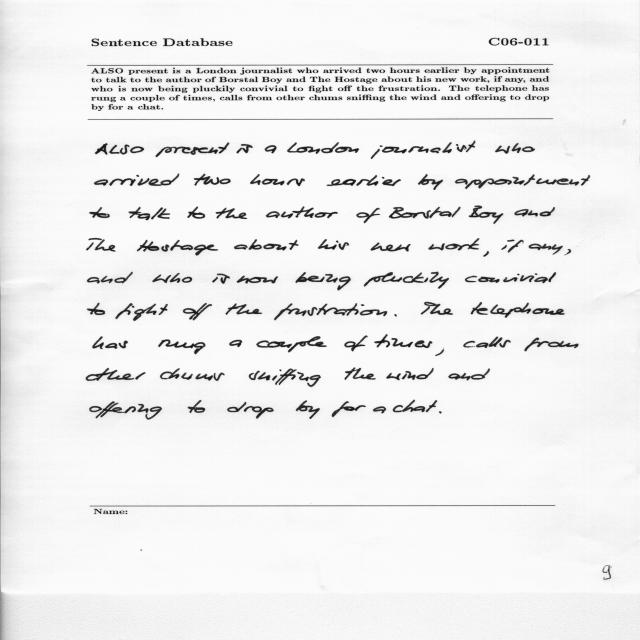word: (455, 174, 590, 189), (274, 303, 387, 320), (371, 141, 476, 159), (471, 302, 565, 318), (364, 272, 449, 289), (249, 368, 321, 387), (90, 401, 162, 420), (137, 240, 218, 256), (256, 336, 327, 353), (156, 143, 230, 158), (295, 272, 351, 291), (95, 174, 180, 186), (465, 272, 556, 283), (115, 303, 168, 321), (287, 142, 359, 154), (266, 207, 338, 219), (389, 207, 461, 219), (160, 368, 225, 381), (327, 175, 401, 186), (375, 334, 433, 348), (227, 402, 274, 419), (86, 368, 146, 381), (525, 338, 579, 352), (159, 340, 206, 355), (234, 239, 298, 250), (429, 238, 480, 251), (250, 174, 305, 186), (469, 206, 503, 224), (95, 143, 144, 155), (386, 368, 434, 380), (393, 400, 437, 413), (332, 402, 366, 418), (129, 207, 170, 220), (463, 337, 511, 348), (87, 272, 133, 283), (448, 369, 490, 381), (183, 303, 212, 320), (296, 400, 320, 419), (93, 336, 128, 349), (194, 174, 231, 186), (226, 303, 263, 315), (495, 143, 535, 154), (421, 302, 453, 315), (514, 207, 555, 217), (87, 238, 116, 252), (418, 174, 443, 190), (152, 273, 192, 283), (344, 336, 368, 352), (344, 368, 376, 380), (529, 244, 563, 255), (370, 243, 411, 252), (356, 208, 380, 223), (216, 208, 248, 219), (318, 239, 349, 250), (237, 276, 278, 284), (501, 240, 524, 253), (188, 206, 206, 219), (188, 400, 205, 413), (90, 207, 110, 218), (87, 303, 105, 315), (212, 273, 230, 284), (236, 144, 253, 154), (265, 145, 277, 153), (229, 340, 242, 347), (373, 407, 386, 414), (435, 350, 444, 356), (564, 249, 571, 255), (483, 251, 489, 257), (394, 314, 397, 317), (439, 411, 442, 414)
